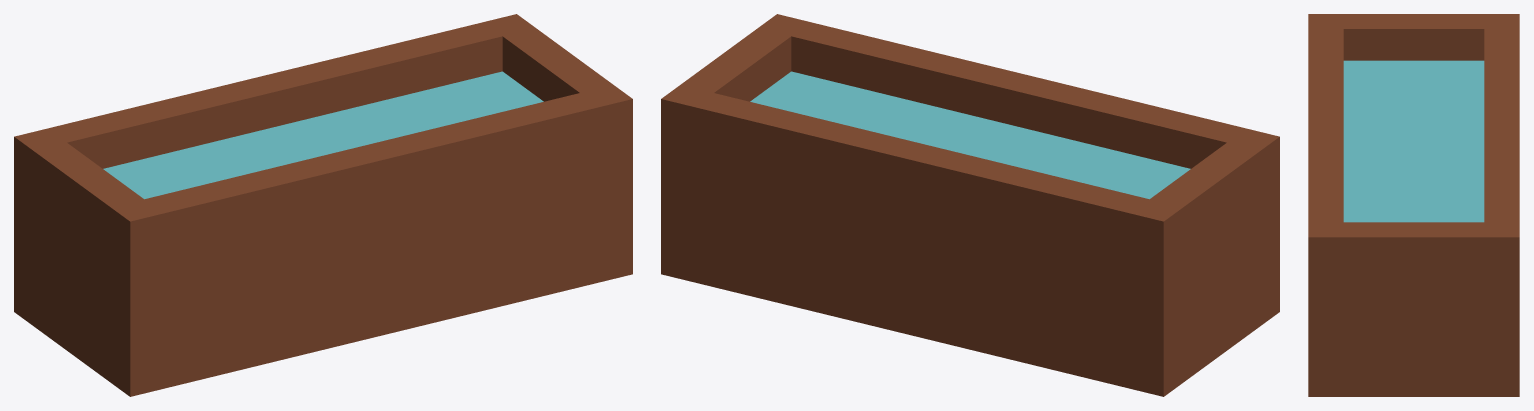
The model's file is trough.glb.
3 renders of one model, left to right at view 1: azimuth 30°, elevation 25°; view 2: azimuth 150°, elevation 25°; view 3: azimuth 270°, elevation 25°, orthographic. The views are drawn at different scales.
Parts seen in each view (by area): view 1: A, B, D, E, C; view 2: B, A, D, E, C; view 3: C, E, A, B, D.
Boxes of the visible parts, x1,y1,x2,y2 form: A: (111,93,632,396); B: (14,14,535,325); D: (15,129,163,396); E: (103,71,543,199); C: (484,15,632,106); B: (661,93,1182,396); A: (758,14,1279,325); D: (1130,129,1278,396); E: (750,71,1190,199); C: (661,16,810,106); C: (1308,222,1519,396); E: (1343,60,1484,222); A: (1308,14,1343,396); B: (1484,14,1519,396); D: (1308,14,1518,60).
Size of the model in its own units: 1.2 by 0.4 by 0.48.
